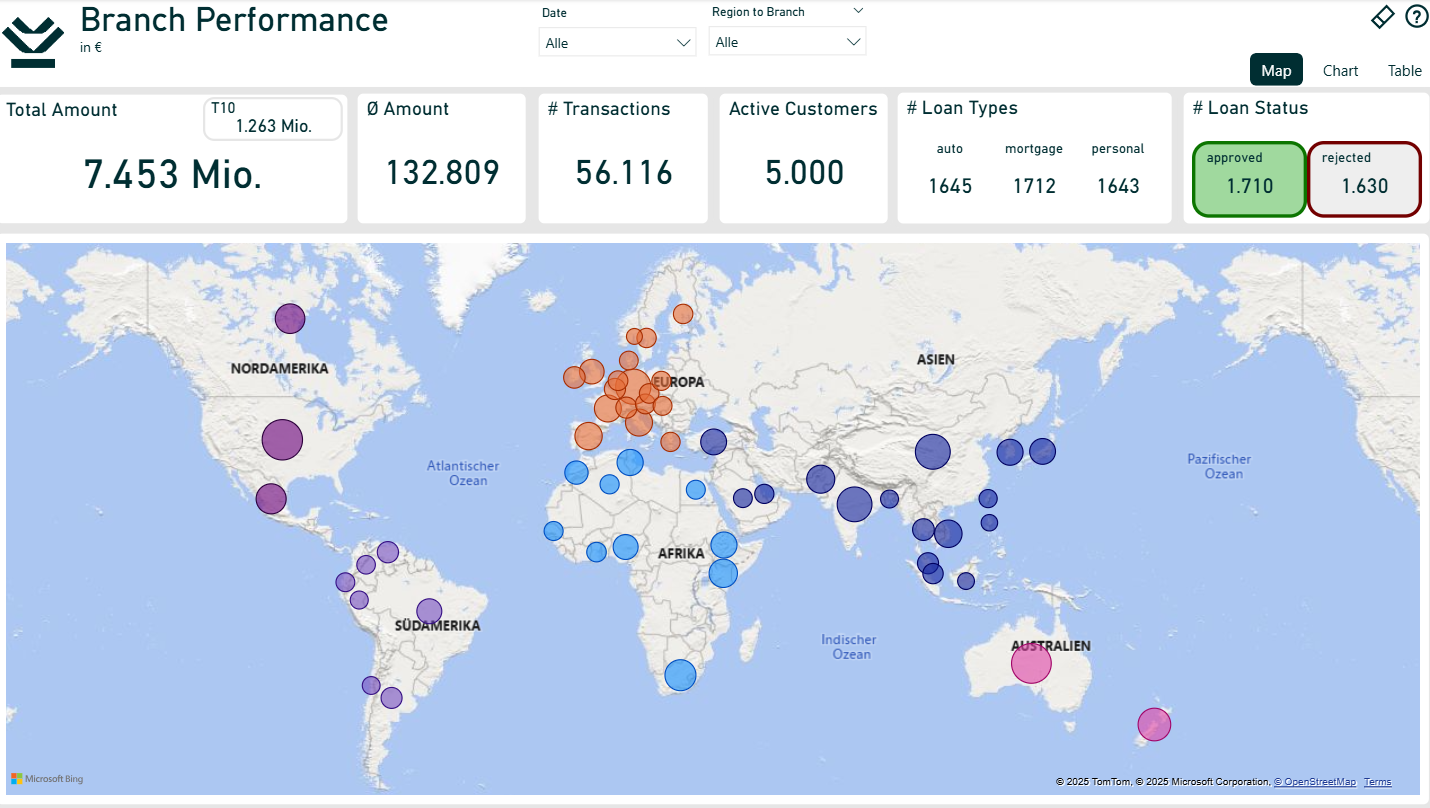

The page's visual inventory and layout, read from the dashboard file:
{"tool":"powerbi","page":{"name":"Branch Performance","canvas":[1280,720],"ordinal":0},"visuals":[{"type":"textbox","box":[800.2,202.5,479.8,517.6],"z":0},{"type":"textbox","title":"Branch Performance","box":[73.6,0,1206.8,78],"z":1000},{"type":"actionButton","box":[1219.4,1,30.3,30.3],"z":2000},{"type":"slicer","fields":{"Values":["Date.Year","Date.Month"]},"box":[480.5,1,150.4,54.5],"z":3000},{"type":"slicer","fields":{"Values":["dim_branches.region","dim_branches.country","dim_branches.city","dim_branches.branch"]},"box":[630.9,0,150.4,55.5],"z":4000},{"type":"card","title":"Total Amount","fields":{"Values":["Sum(stg_transactions.Total Amount EUR)"]},"box":[0,80.1,320.5,124.3],"z":5000},{"type":"card","title":"# Transactions","fields":{"Values":["stg_transactions.TRACount"]},"box":[480.8,79.1,160.3,125.3],"z":6000},{"type":"card","title":"Ø Amount","fields":{"Values":["stg_transactions.AVG_TRA"]},"box":[320.5,79.1,159.2,125.3],"z":7000},{"type":"card","title":"Active Customers","fields":{"Values":["CountNonNull(stg_customers.customer_id)"]},"box":[641,79.1,159.2,125.3],"z":8000},{"type":"tableEx","title":"Branch Comparison","fields":{"Values":["dim_customers.customer","dim_accounts.account_id","dim_loans.loan_type","dim_loans.loan_status"]},"box":[813.8,269.2,454.9,439.4],"z":11000},{"type":"bookmarkNavigator","box":[1116.2,48,163.8,29.9],"z":12000},{"type":"textbox","title":"# Loan Types","box":[799.2,78,253,125.9],"z":12500,"group":"g1"},{"type":"card","title":"personal","fields":{"Values":["dim_loans.LoanTypeAuto"]},"box":[962.2,125.8,74.5,68],"z":13000,"group":"g1"},{"type":"pivotTable","title":"Time Trend","fields":{"Values":["Sum(stg_transactions.Total Amount EUR)"],"Columns":["dim_date.Month"],"Rows":["dim_branches.region","dim_branches.branch","stg_customers.customer","stg_transactions.account_id"]},"box":[0,202.5,800.2,517.6],"z":13000},{"type":"card","title":"auto","fields":{"Values":["dim_loans.LoanTypeAuto"]},"box":[813.3,125.8,74.5,68],"z":14000,"group":"g1"},{"type":"textbox","title":"# Loan Status","box":[1052.2,78,227.8,125.9],"z":14000},{"type":"card","title":"mortgage","fields":{"Values":["dim_loans.LoanTypeAuto"]},"box":[887.7,125.8,74.5,68],"z":15000,"group":"g1"},{"type":"card","title":"approved","fields":{"Values":["CountNonNull(dim_loans.loan_status)"]},"box":[1064.8,125.9,101.9,68],"z":15000},{"type":"group","id":"g1","title":"Gruppe 1","box":[799.2,78,253,125.9],"z":16000},{"type":"card","title":"rejected","fields":{"Values":["CountNonNull(dim_loans.loan_status)"]},"box":[1166.7,125.9,101.9,68],"z":17000},{"type":"image","box":[0,0,73.6,78],"z":18000},{"type":"card","title":"T10","fields":{"Values":["Sum(stg_transactions.Total Amount EUR)"]},"box":[188.2,86.9,124.4,38.5],"z":19000},{"type":"actionButton","box":[1249.7,0,30.3,30.3],"z":21000},{"type":"slicer","fields":{"Values":["dim_loans.loan_type"]},"box":[813.8,213.5,149.6,55.7],"z":22000},{"type":"slicer","fields":{"Values":["dim_loans.loan_status"]},"box":[966.4,213.5,149.6,55.7],"z":23000}]}

Visuals, with their boxes in screenshot pixels (x1, y1, x2, y2), scaled from the page's 1280x720 canvas onto the 1430x808 screenshot:
textbox: 894/227/1429/807
"Branch Performance" textbox: 82/0/1429/88
actionButton: 1362/1/1396/35
slicer - Date.Year x Date.Month: 537/1/705/62
slicer - dim_branches.region x dim_branches.country: 705/0/873/62
"Total Amount" card: 0/90/358/229
"# Transactions" card: 537/89/716/229
"Ø Amount" card: 358/89/536/229
"Active Customers" card: 716/89/894/229
"Branch Comparison" tableEx: 909/302/1417/795
bookmarkNavigator: 1247/54/1429/87
"# Loan Types" textbox: 893/88/1176/229
"personal" card: 1075/141/1158/217
"Time Trend" pivotTable: 0/227/894/807
"auto" card: 909/141/992/217
"# Loan Status" textbox: 1176/88/1429/229
"mortgage" card: 992/141/1075/217
"approved" card: 1190/141/1303/218
"Gruppe 1" group: 893/88/1176/229
"rejected" card: 1303/141/1417/218
image: 0/0/82/88
"T10" card: 210/98/349/141
actionButton: 1396/0/1429/34
slicer - dim_loans.loan_type: 909/240/1076/302
slicer - dim_loans.loan_status: 1080/240/1247/302
